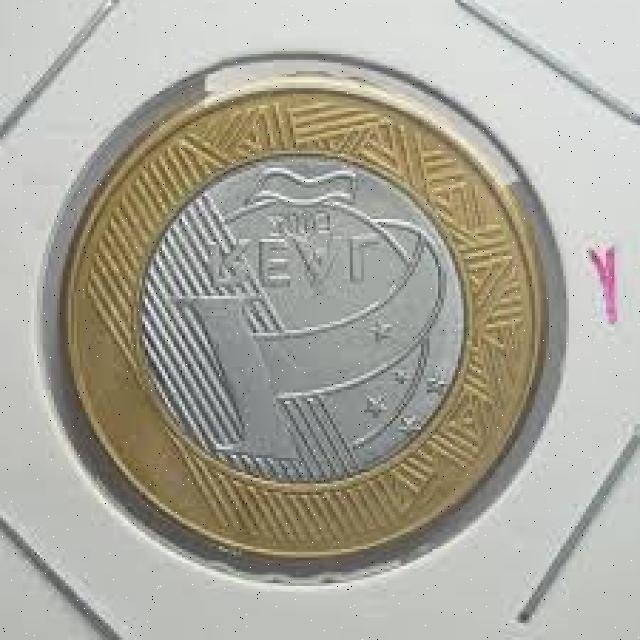1 real: (69, 90, 542, 558)
